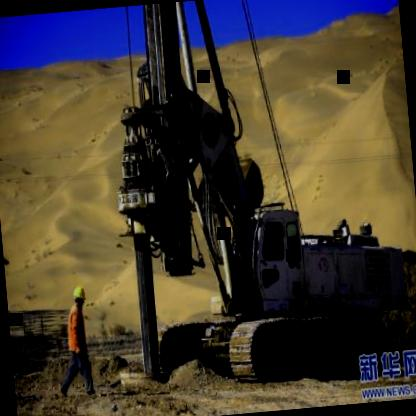helmet: (70, 280, 90, 310)
